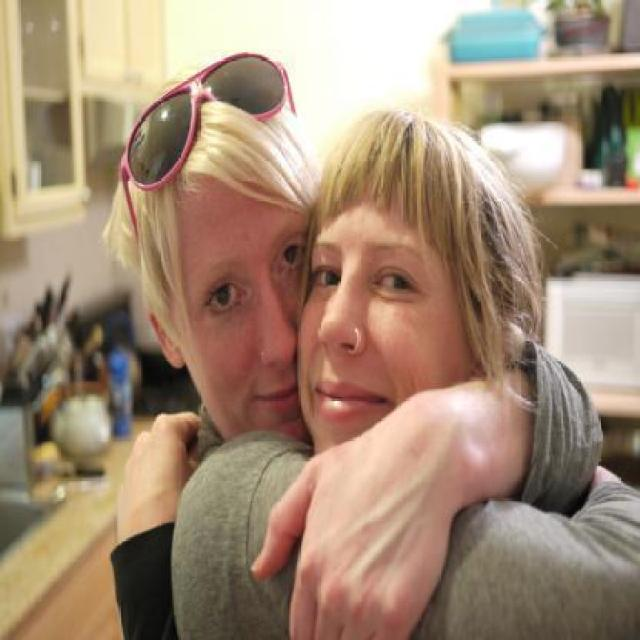face_nomask: (306, 241, 452, 453), (190, 229, 321, 433)
glasses: (119, 50, 296, 247)
head_nohelmet: (327, 102, 525, 244)
